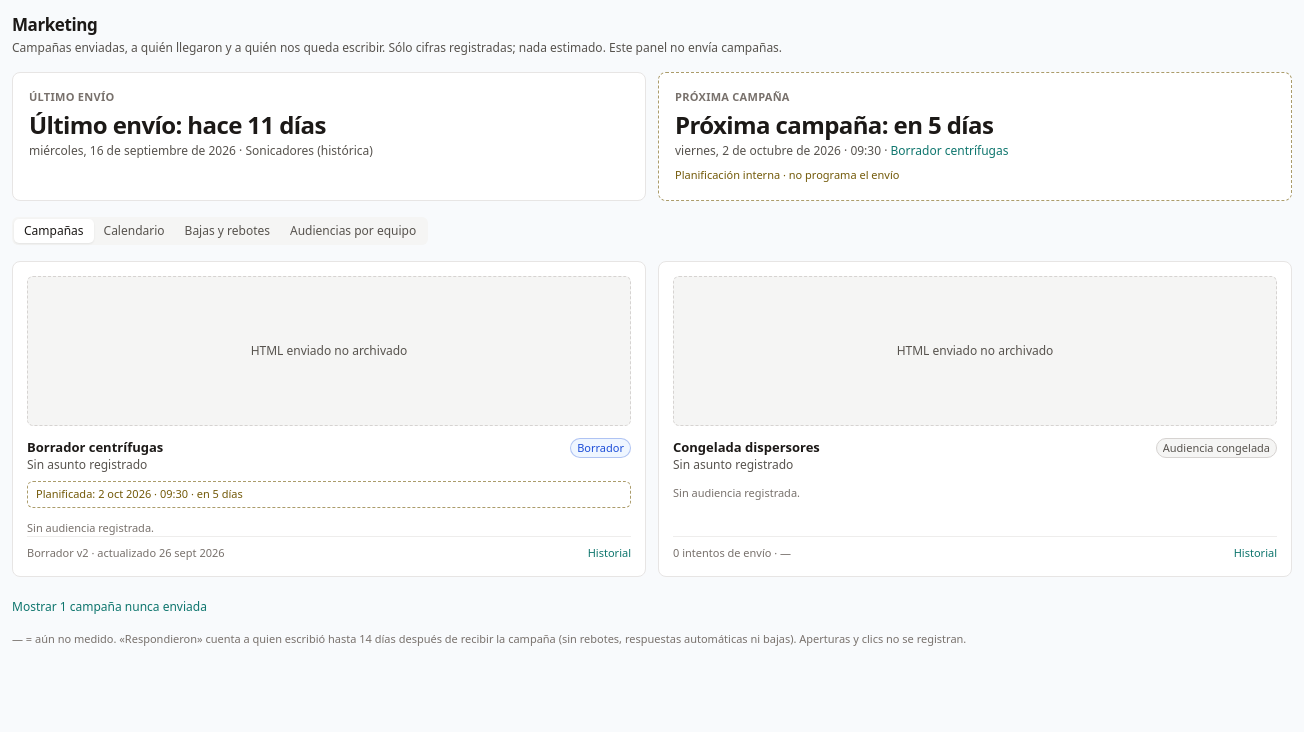
Test: MarketingPage calendar flow › shows the overview, opens the calendar tab, and a sent event opens its archive
Check: the text with test id "last-send" reads "Último envío: hace 11 días", box [29,108,326,141]
Check: the text with test id "next-planned" reads "Próxima campaña: en 5 días", box [675,108,993,141]
Click the button "Calendario" at (134, 230), box [94,218,174,242]
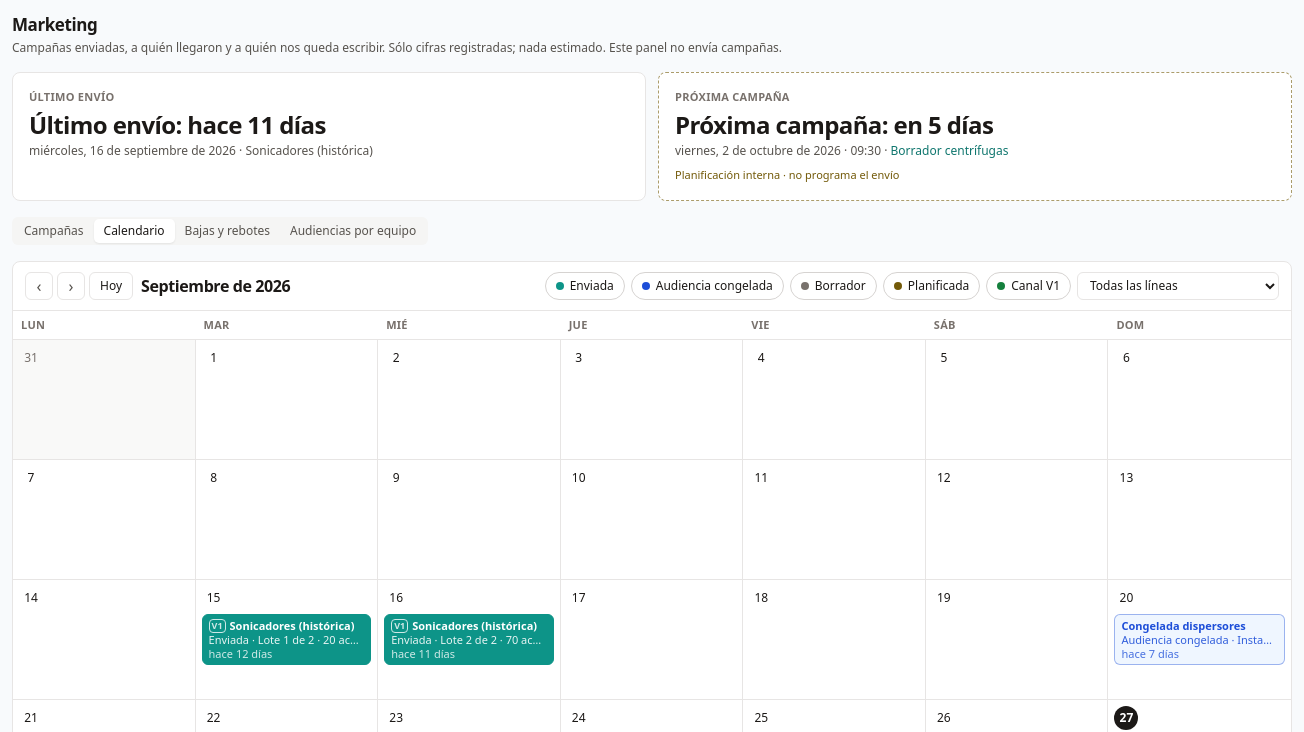
Click the button with test id "calendar-event" at (469, 640), box [384,614,554,665]
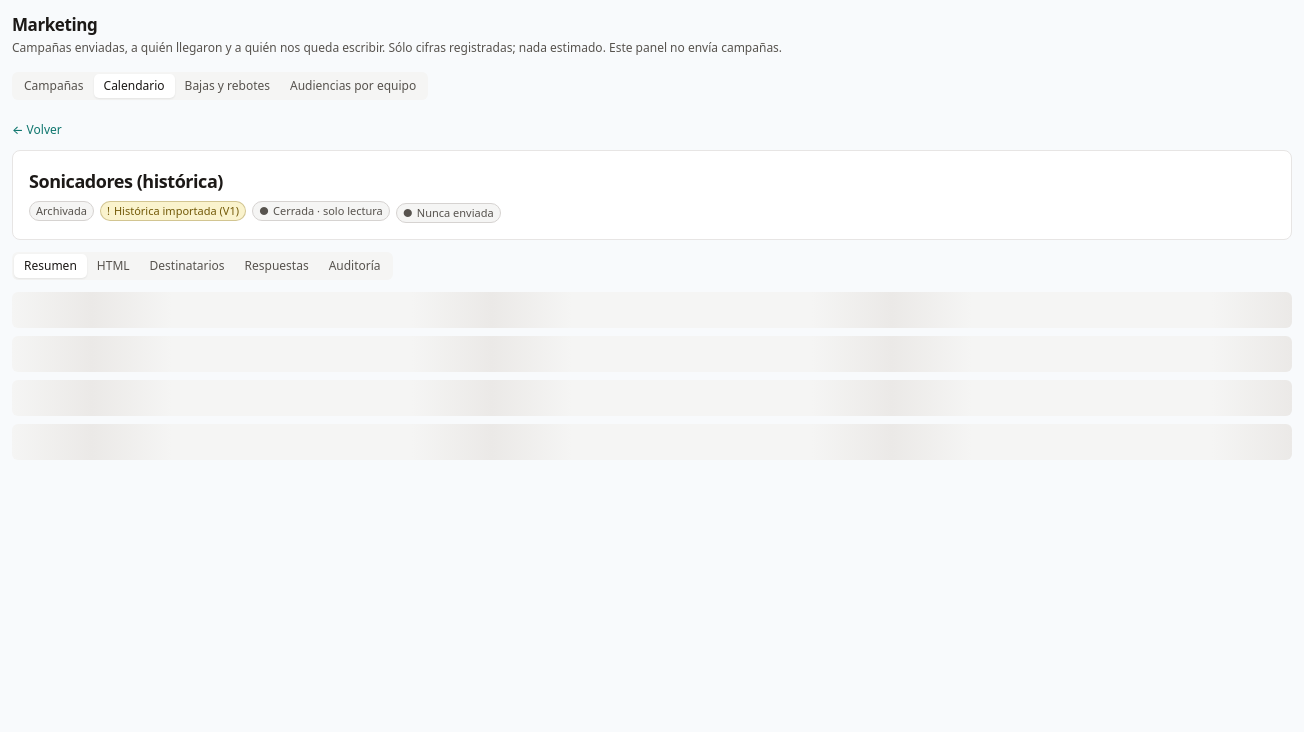
Click the button "HTML" at (113, 266), box [87,254,140,278]
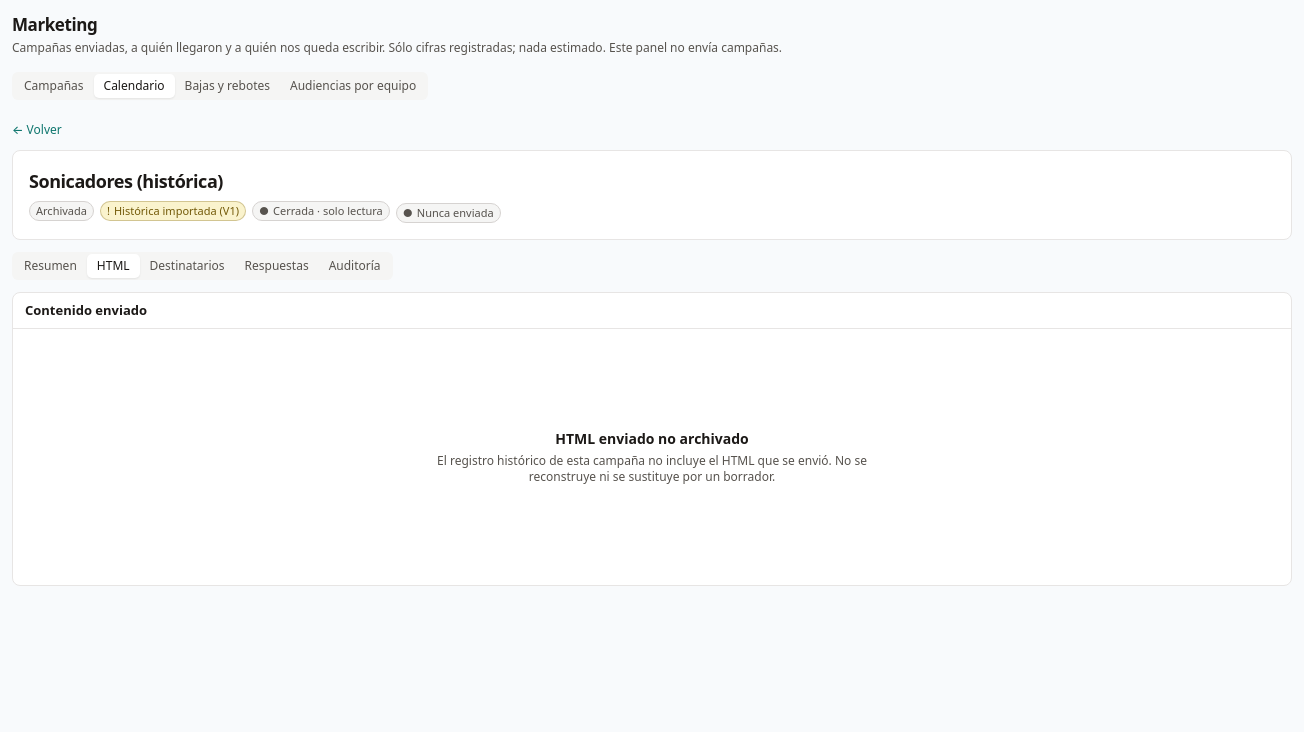
Check: the element with test id "campaign-detail" shows "Histórica importada (V1)", box [114,202,239,218]
Check: the element with test id "html-unavailable" shows "HTML enviado no archivado", box [555,429,749,448]
